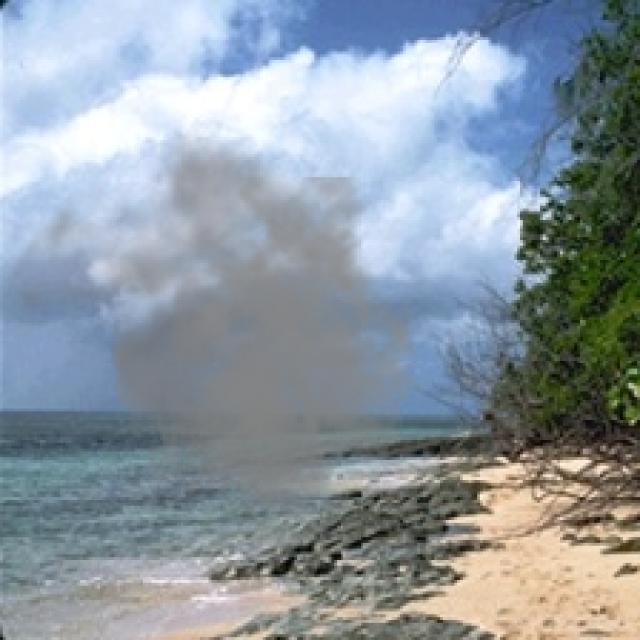smoke: (0, 126, 426, 540)
